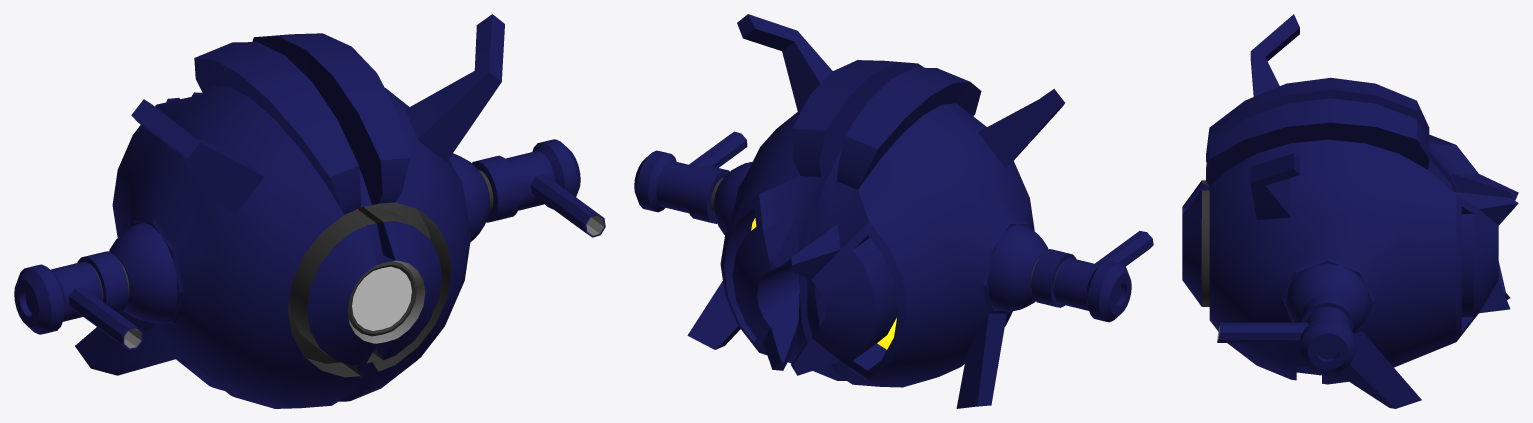
The model's file is uploads_files_6893706_robo-ballS.fbx.
3 views of the same model, side by side, from view 1: azimuth 30°, elevation 25°; view 2: azimuth 150°, elevation 25°; view 3: azimuth 270°, elevation 25° (orthographic). The views are drawn at different scales.
Visible parts, largest first — view 1: Sphere, Sphere.001, Sphere.002, Sphere.003; view 2: Sphere, Sphere.001, Sphere.002; view 3: Sphere, Sphere.002.
Part boxes in pixels (box(x1,y1,x2,y2)): Sphere: box(75, 14, 504, 408); Sphere.001: box(14, 222, 177, 350); Sphere.002: box(449, 139, 605, 241); Sphere.003: box(347, 261, 416, 336); Sphere: box(687, 14, 1064, 408); Sphere.001: box(988, 224, 1153, 322); Sphere.002: box(634, 131, 752, 234); Sphere: box(1182, 14, 1518, 408); Sphere.002: box(1217, 263, 1369, 373).
Size of the model in its own units: 121 by 75.25 by 79.83.
